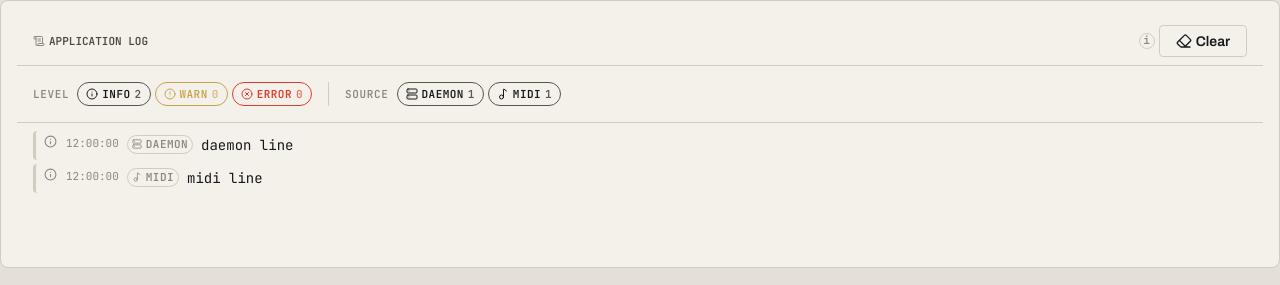
Test: AppLogPanel › hides lines whose source is toggled off
What coordinates should you click on to do the following:
click the button "midi 1"
I would click on:
 (524, 94)
Its box is [488,82,561,106].
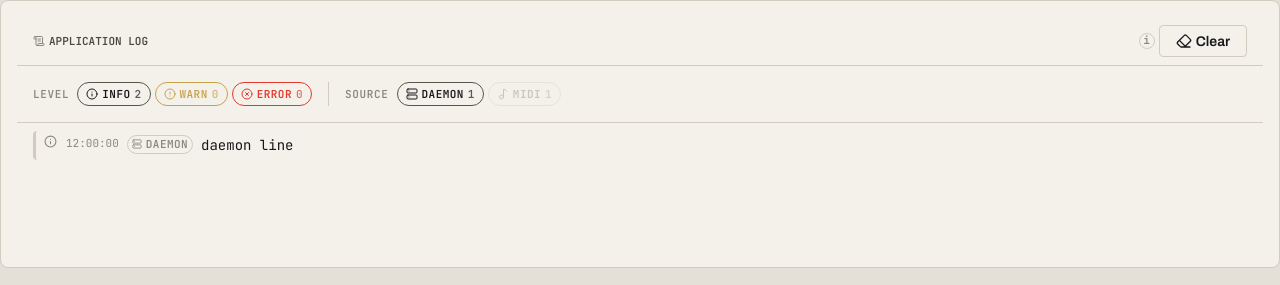
expect the text "daemon line" is shown: met, box [201,136,294,154]
expect the text "midi line" is gone: met
